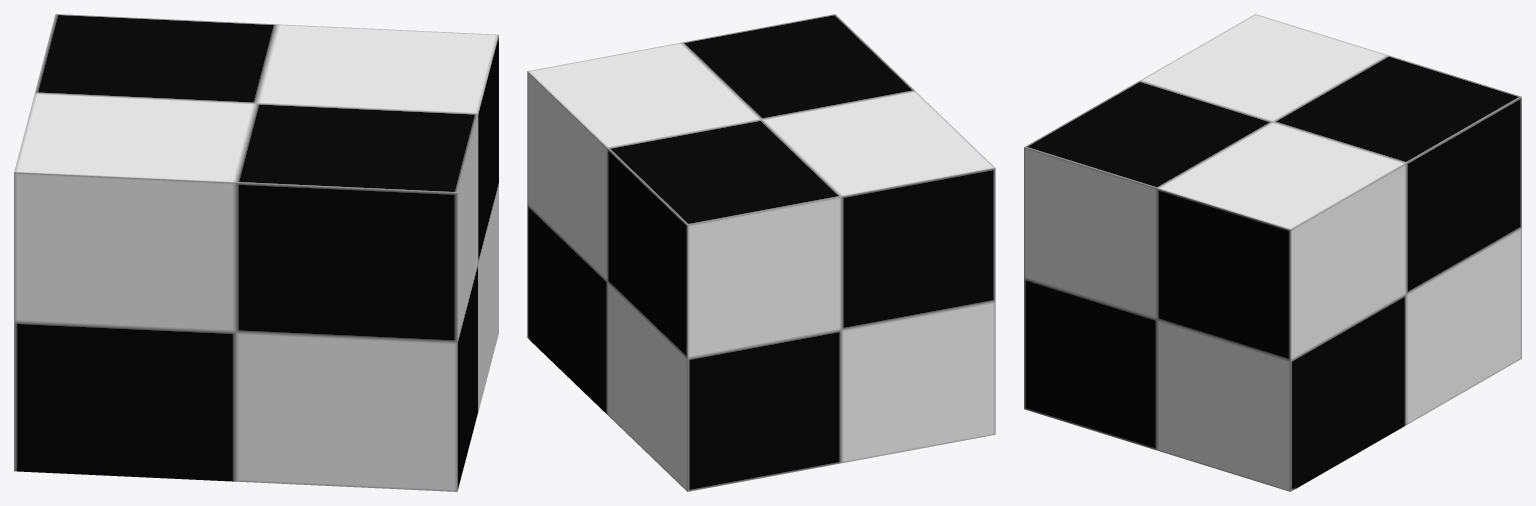
The model's file is artest.fbx.
3 renders of one model, left to right at view 1: azimuth 30°, elevation 25°; view 2: azimuth 150°, elevation 25°; view 3: azimuth 270°, elevation 25°, orthographic. The views are drawn at different scales.
Parts seen in each view (by area): view 1: pCube1; view 2: pCube1; view 3: pCube1.
Part boxes in pixels (bbox=[...]): pCube1: bbox=[14, 14, 498, 491]; pCube1: bbox=[527, 14, 995, 491]; pCube1: bbox=[1024, 14, 1521, 491].
Bounding box in the file's own units: 6.11 × 3.46 × 5.95.
Materials: 1 (1 with a texture image).
